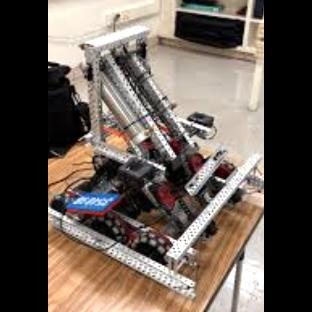Robot: (48, 26, 264, 298)
